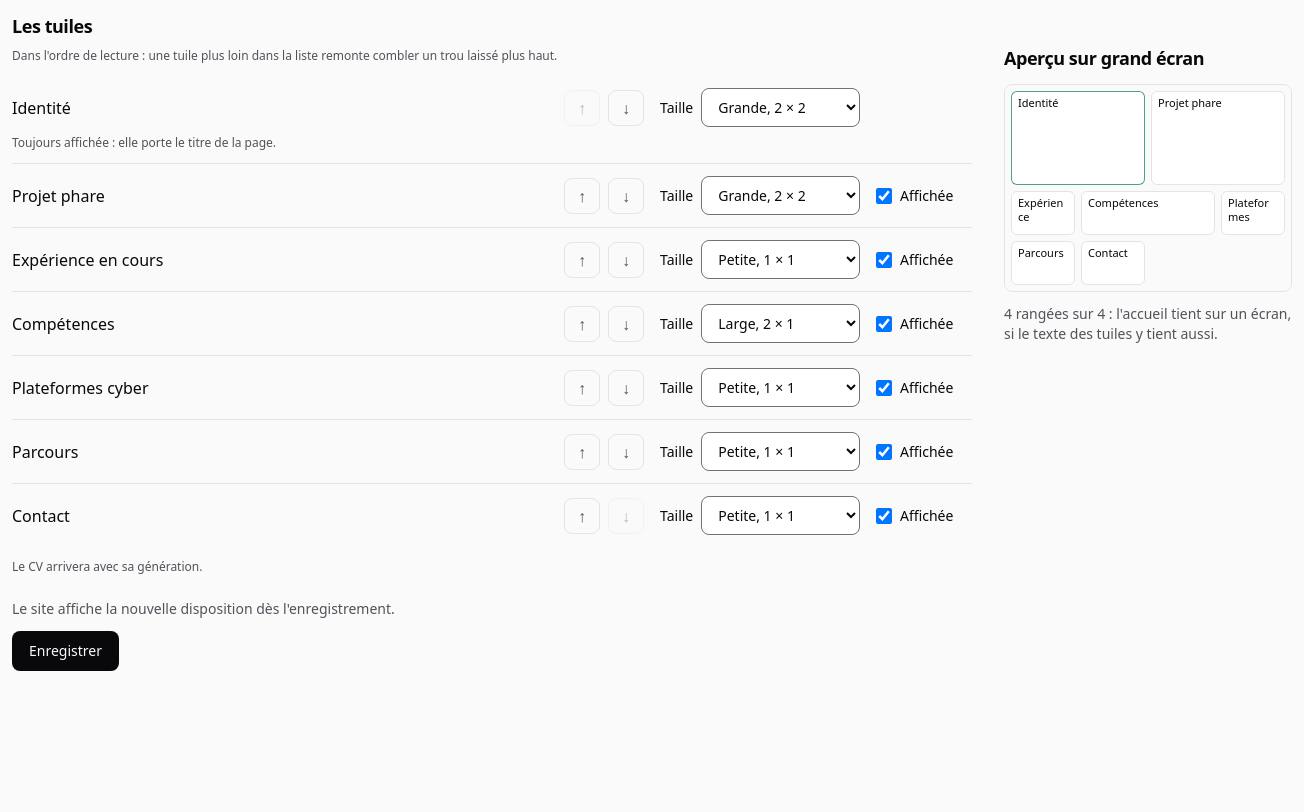
Test: BentoForm › moves a tile, keeping the focus on the button and saying where it went
The image size is (1304, 812).
Click the button named "Descendre la tuile Projet phare".
click(626, 196)  # box [608,178,644,214]
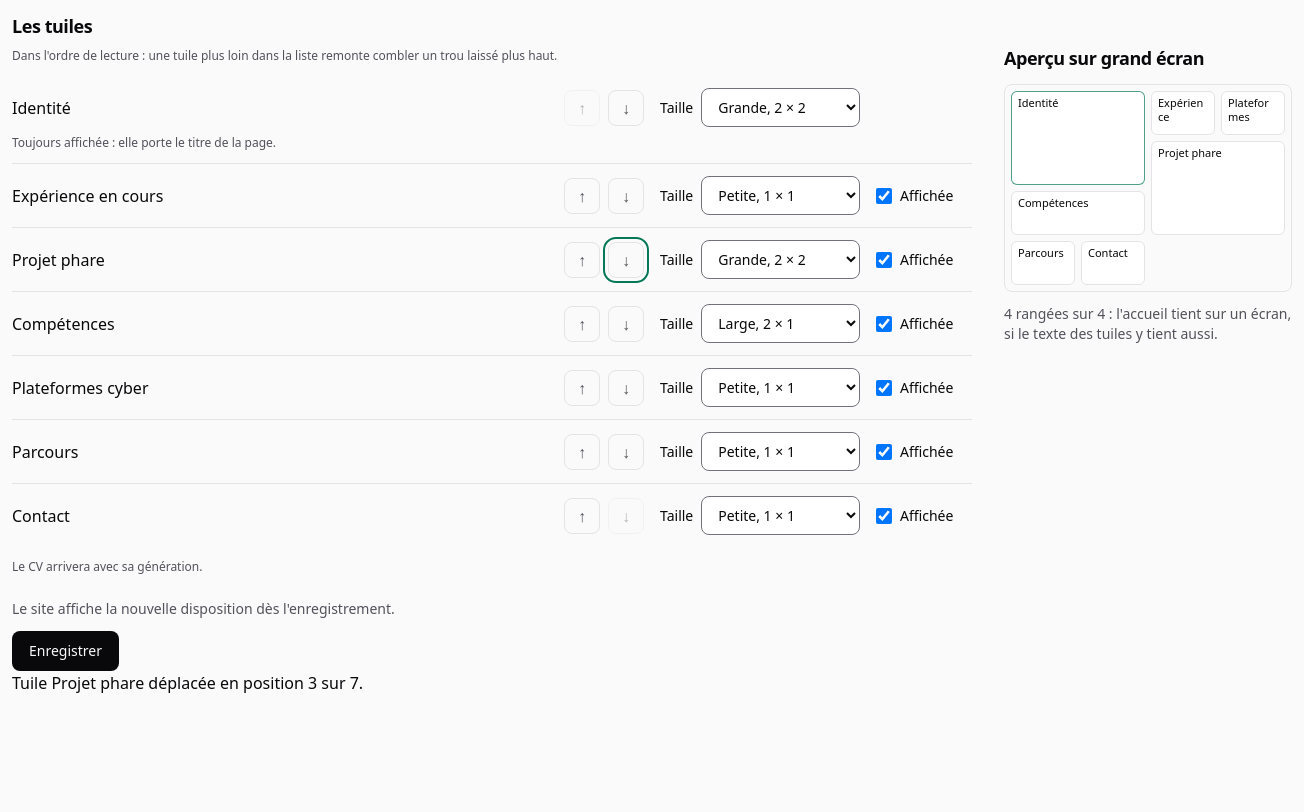
Expected: the text "Tuile Projet phare déplacée en position 3 sur 7." is shown, [12,672,363,694]
